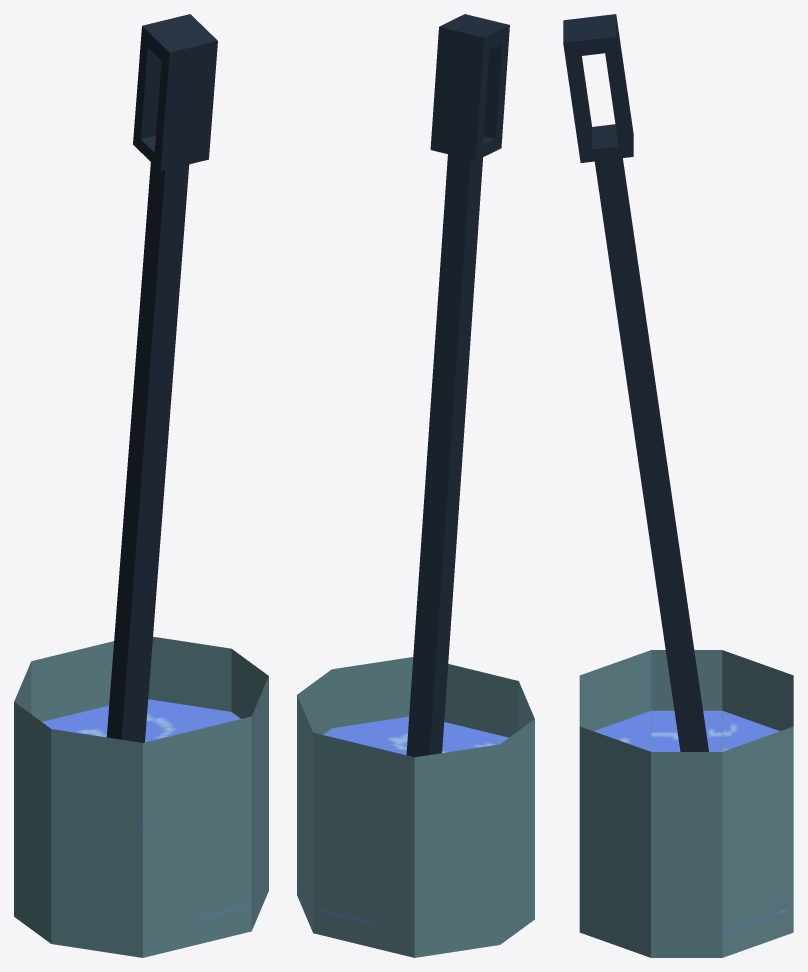
File: kova ve paspas.obj
3 renders of one model, left to right at view 1: azimuth 30°, elevation 25°; view 2: azimuth 150°, elevation 25°; view 3: azimuth 270°, elevation 25°, orthographic. The views are drawn at different scales.
Parts seen in each view (by area): view 1: cube; view 2: cube; view 3: cube.
Part boxes in pixels (x1=…): cube: x1=14, y1=14, x2=268, y2=957; cube: x1=297, y1=14, x2=534, y2=957; cube: x1=563, y1=14, x2=793, y2=957.
Bounding box in the file's own units: 0.1125 × 0.4516 × 0.1077.
